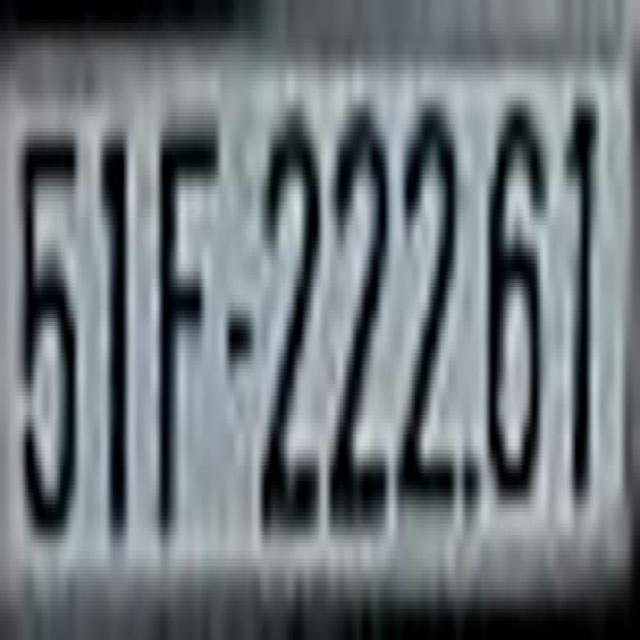1: (97, 117, 135, 570), (562, 74, 593, 512)
2: (260, 93, 322, 543), (331, 93, 392, 543), (399, 90, 458, 532)
5: (18, 101, 78, 558)
6: (482, 74, 548, 524)
F: (157, 93, 220, 543)
